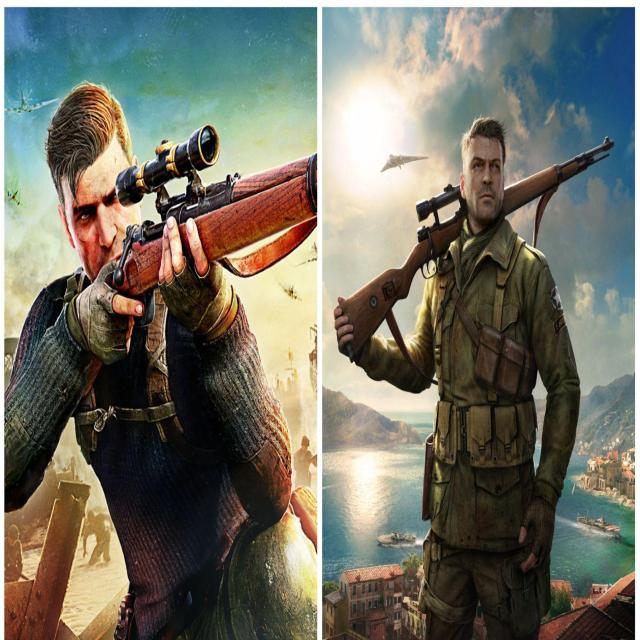weapon: (55, 109, 318, 444), (333, 130, 617, 371)
